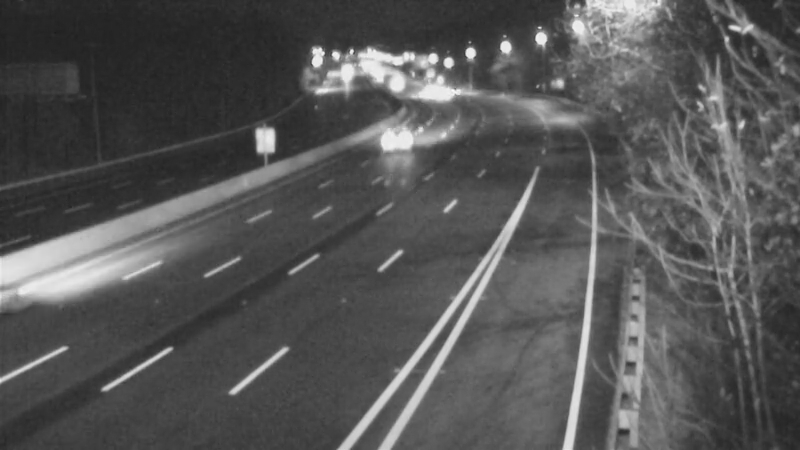vehicle: (372, 56, 422, 106), (406, 69, 456, 119), (429, 66, 479, 116), (371, 110, 421, 160)
